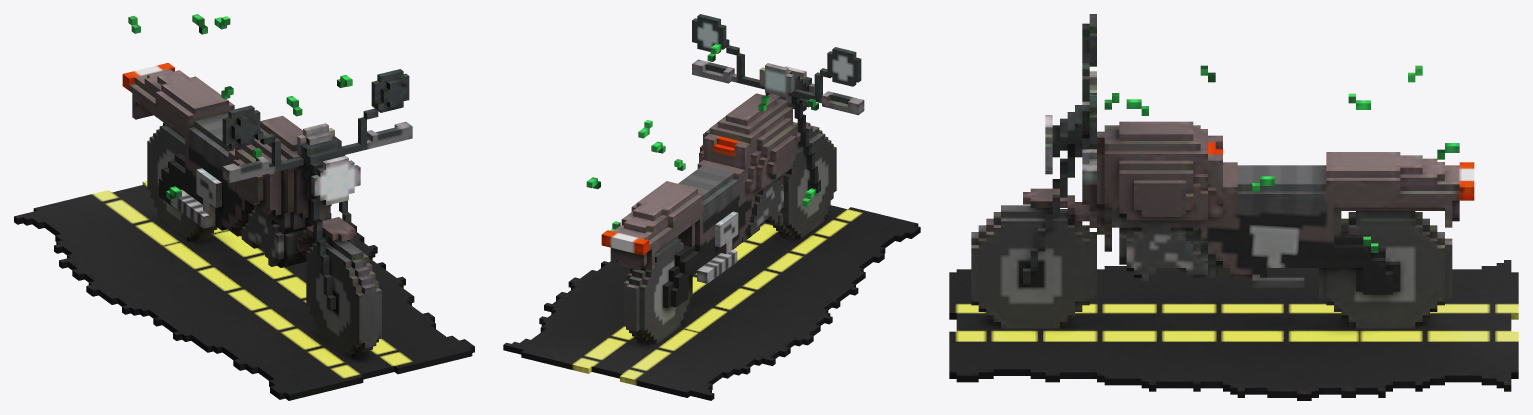
The model's file is ironEgg.glb.
The picture shows the model from 3 angles, left to right: view 1: azimuth 30°, elevation 25°; view 2: azimuth 150°, elevation 25°; view 3: azimuth 270°, elevation 25°; orthographic projection. The views are drawn at different scales.
Parts seen in each view (by area): view 1: IronEgg.vox; view 2: IronEgg.vox; view 3: IronEgg.vox.
Boxes of the visible parts, <box> form: IronEgg.vox: <box>14,14,474,400</box>; IronEgg.vox: <box>503,14,920,400</box>; IronEgg.vox: <box>949,14,1518,400</box>.
Bounding box in the file's own units: 4.6 × 4 × 7.7.
1 material, 1 textured.
